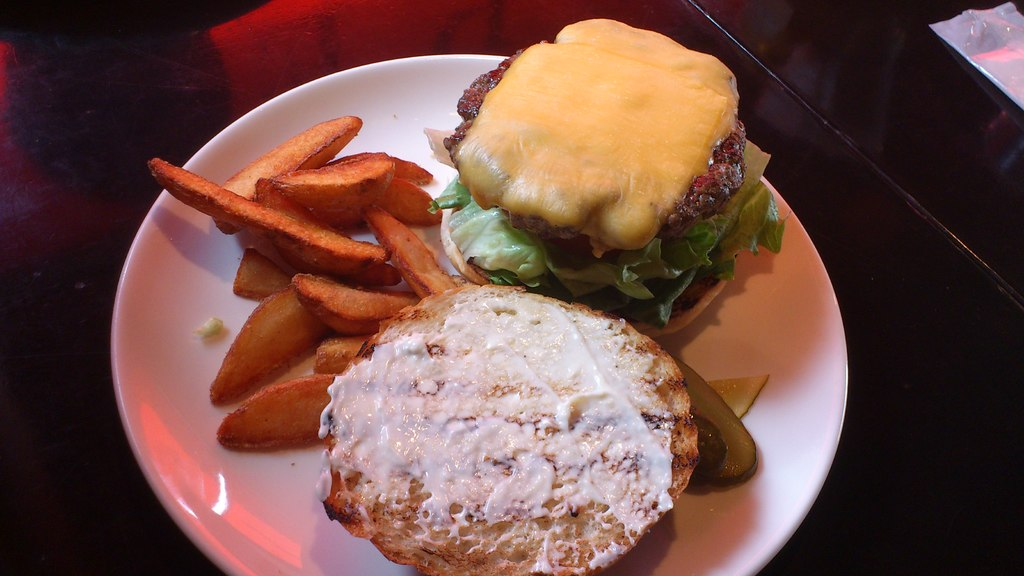French fries: (140, 145, 385, 282), (208, 117, 365, 229), (209, 281, 336, 415), (261, 138, 430, 206), (214, 376, 341, 450), (366, 200, 446, 295), (285, 275, 417, 328), (365, 180, 450, 221), (310, 327, 368, 375)
